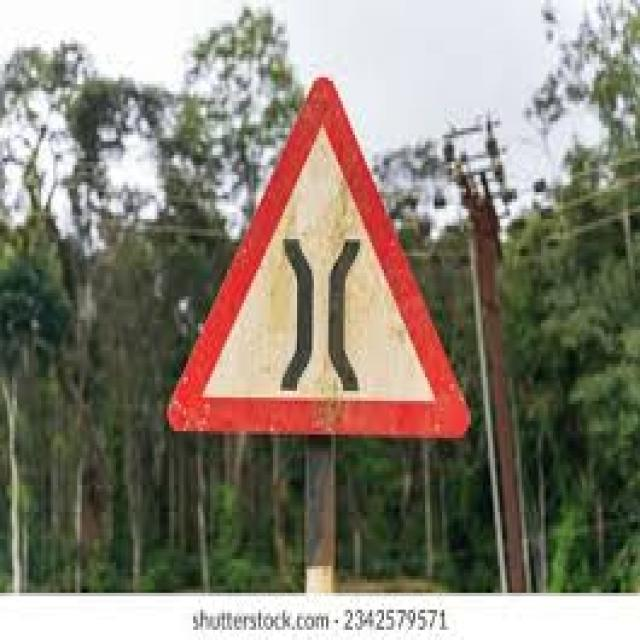narrow bridge ahead: (161, 77, 473, 453)
